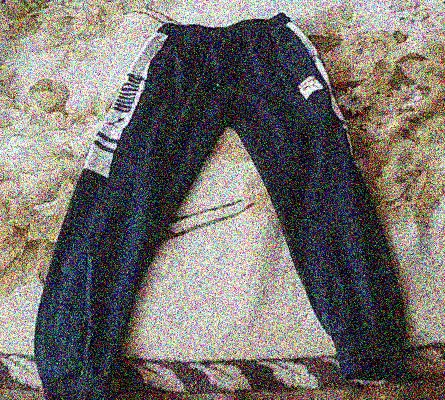Pants: (23, 21, 419, 390)
